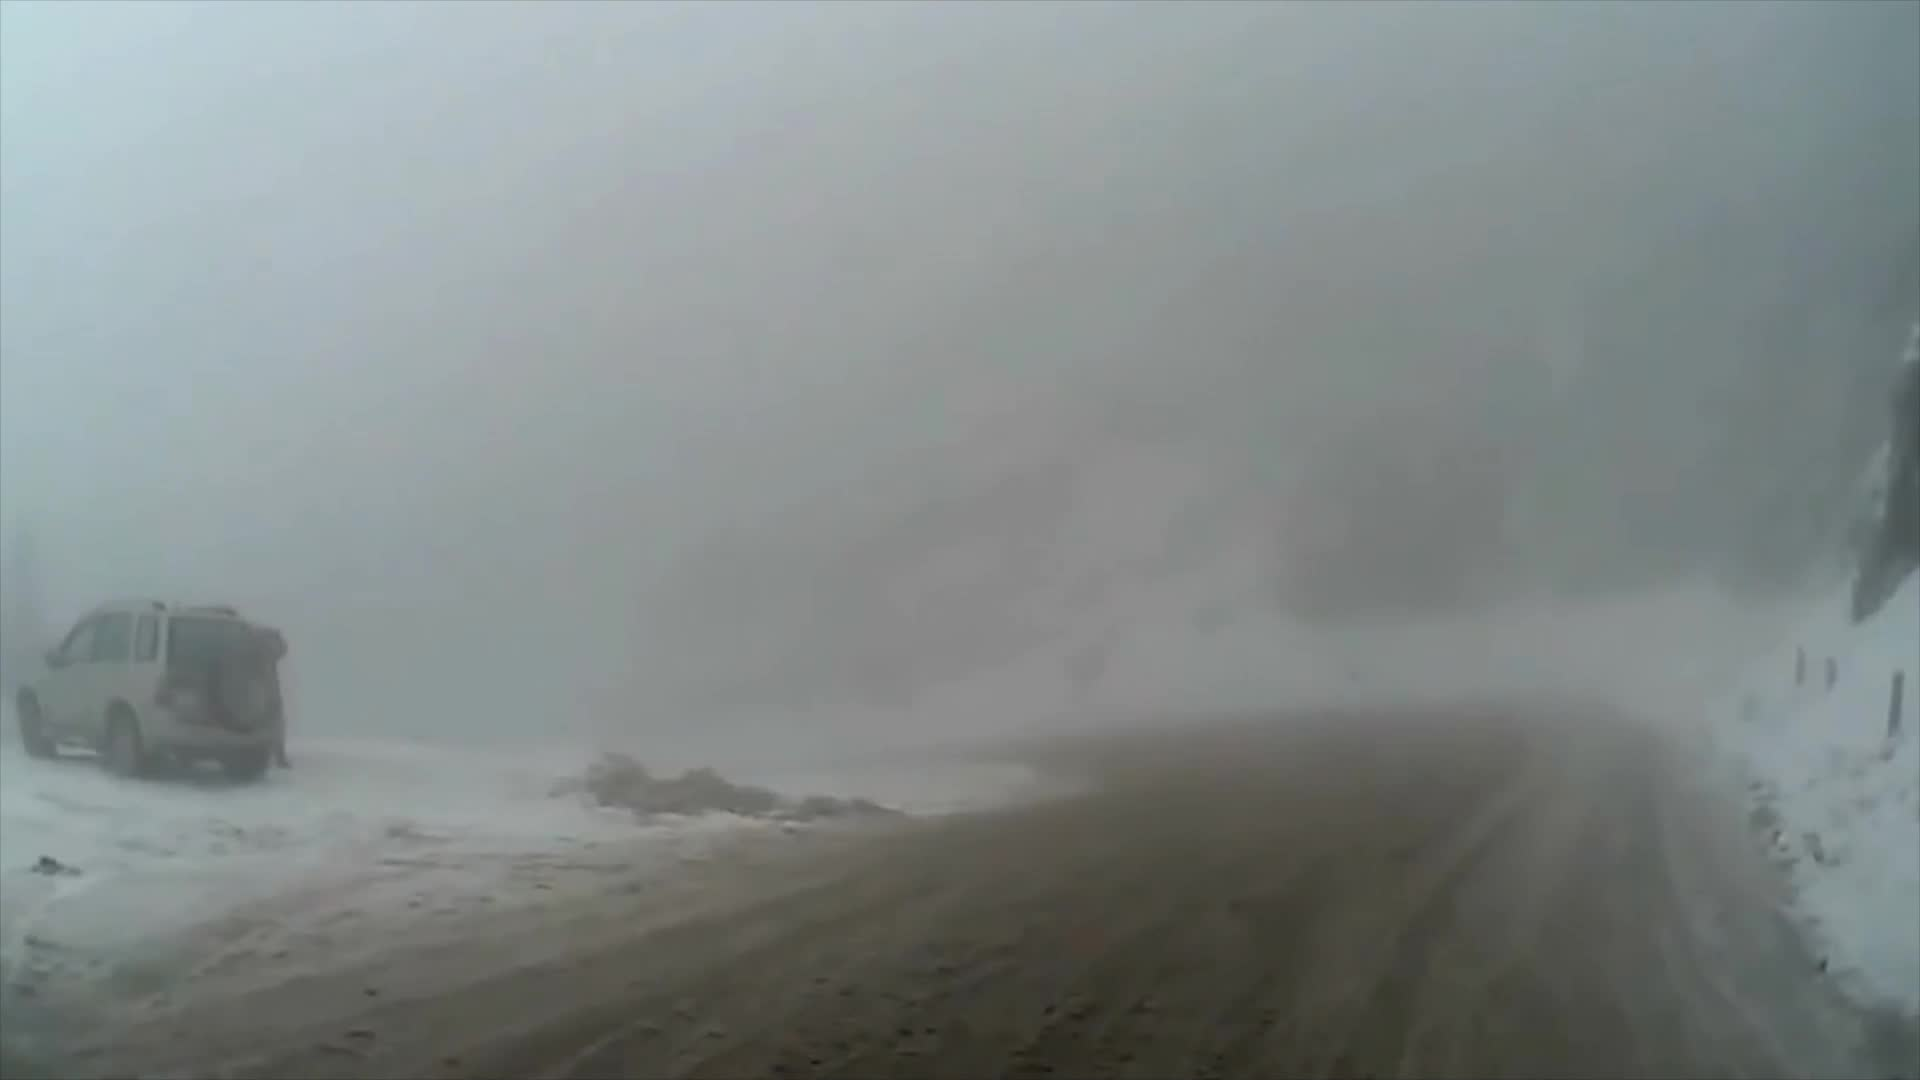vehicle: (13, 597, 276, 785)
